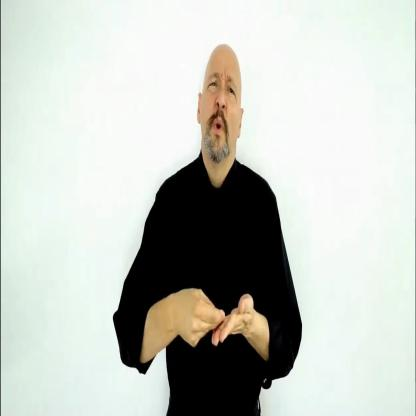Expensive: (172, 264, 252, 368)
